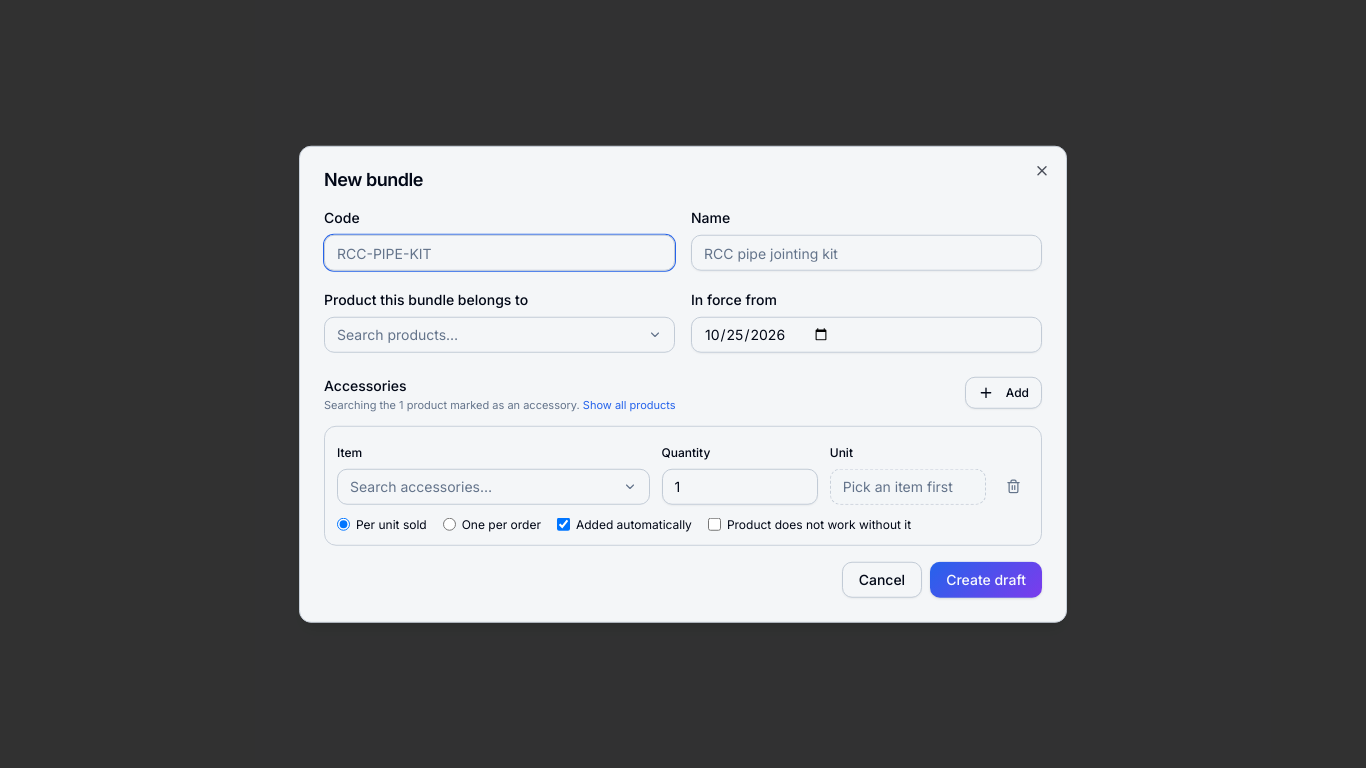
Test: BundleRuleFormDialog › takes the unit from the chosen accessory rather than asking
Expected: the text "Pick an item first" is shown, [843,476,953,496]
Click the button "Search accessories…" at (493,486), box [337,468,650,504]
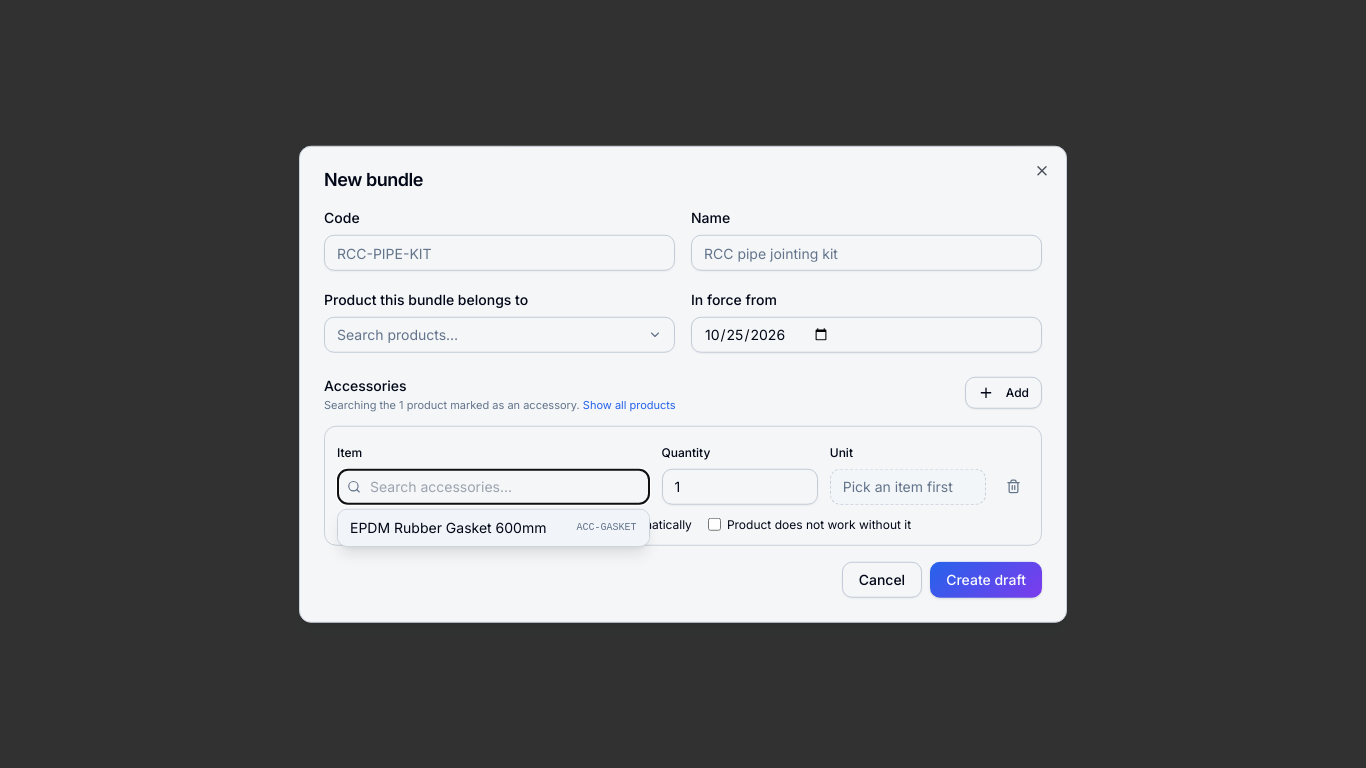
Click the text "EPDM Rubber Gasket 600mm" at (448,527), box [350,517,546,537]
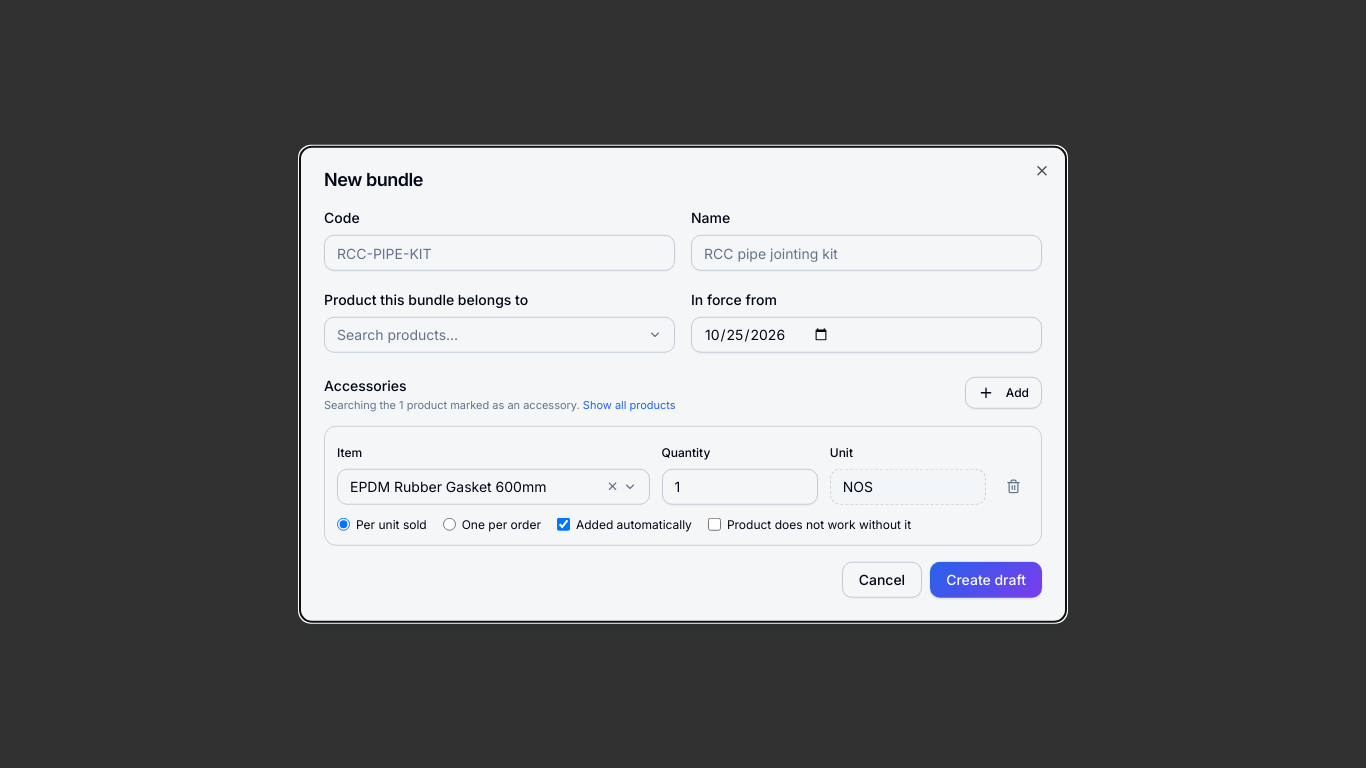
Expected: the text "NOS" is shown, [830,468,986,504]
Expected: the text "Pick an item first" is gone
